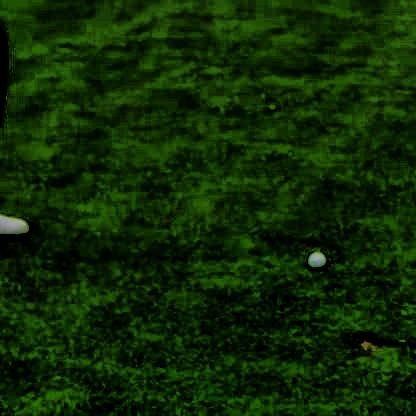golfball: (305, 253, 323, 266)
